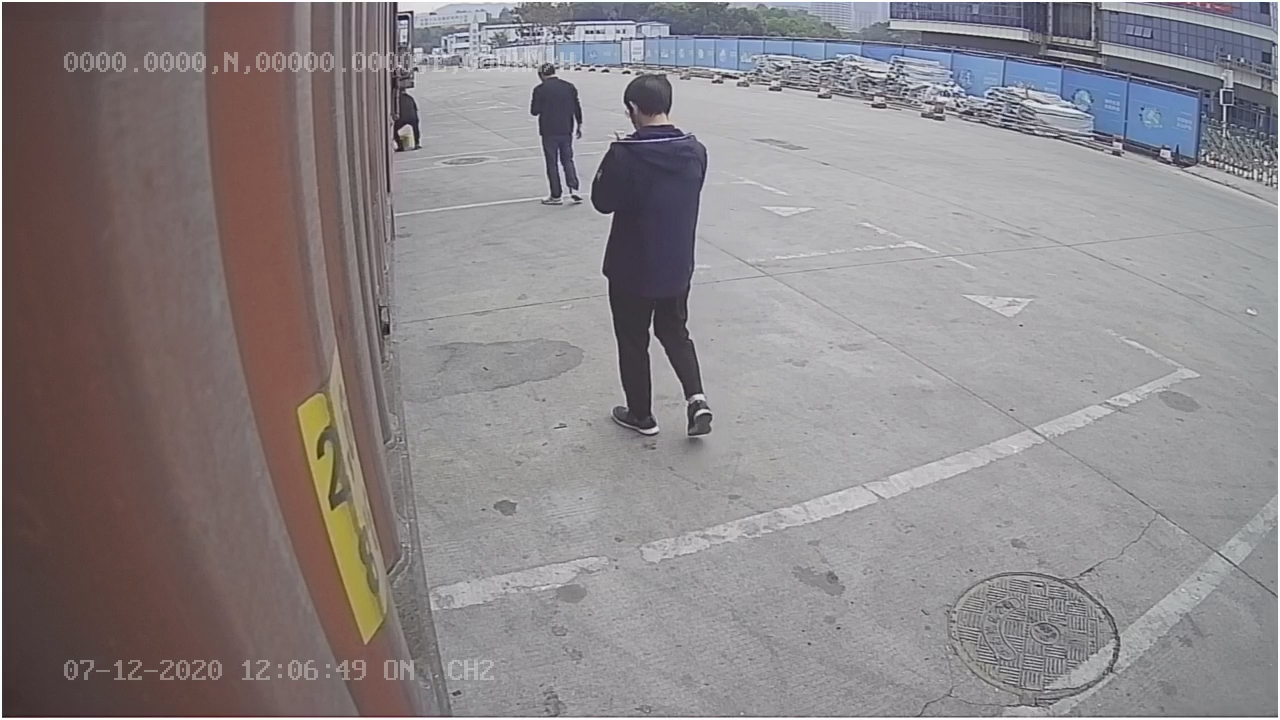person: (587, 71, 719, 436)
